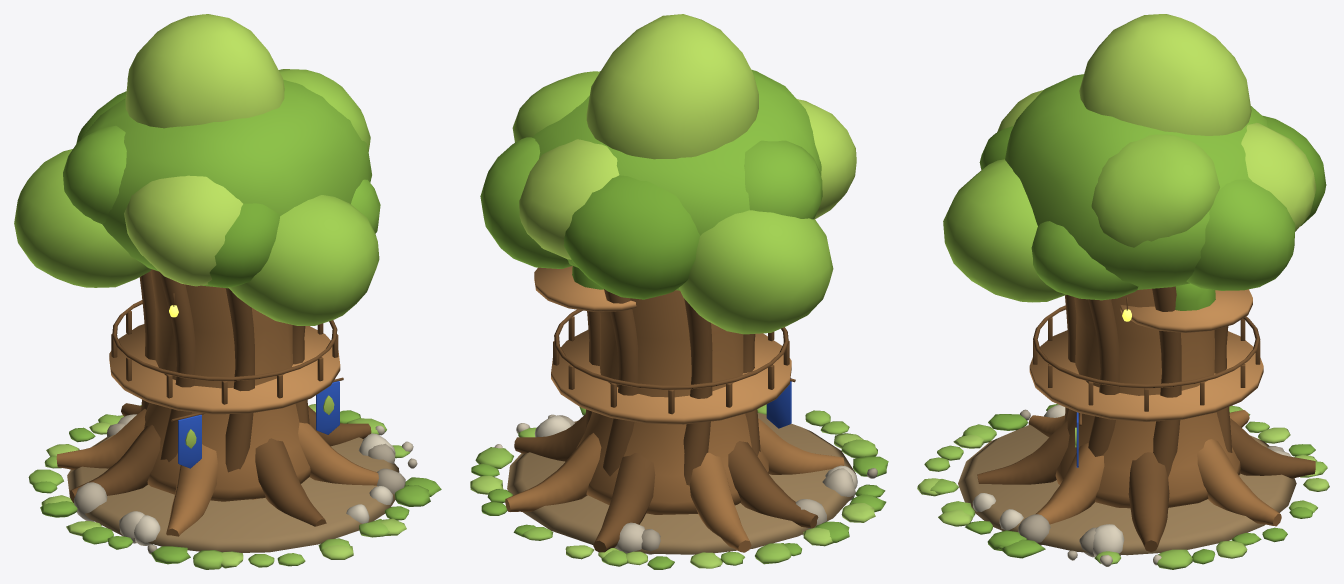
Rendered from b_heartwood_2.glb.
3 views of the same model, side by side, from view 1: azimuth 30°, elevation 25°; view 2: azimuth 150°, elevation 25°; view 3: azimuth 270°, elevation 25° (orthographic). The views are drawn at different scales.
Visible parts, largest first — view 1: root_matte#86bc40, root_matte#9ccc4c, root_matte#b6dc5c, root_matte#a0703f, root_matte#74502c, mound, root_matte#c08a52, root_matte#76aa36, root_matte#7fb243, root_matte#94c252, root_matte#a8d060, root_team (+4 smaller); view 2: root_matte#b6dc5c, root_matte#a0703f, root_matte#86bc40, root_matte#74502c, root_matte#9ccc4c, root_matte#76aa36, mound, root_matte#c08a52, root_matte#94c252, root_matte#7fb243, root_matte#a8d060, root_matte#c9bea8 (+3 smaller); view 3: root_matte#86bc40, root_matte#a0703f, root_matte#b6dc5c, root_matte#9ccc4c, root_matte#74502c, mound, root_matte#c08a52, root_matte#7fb243, root_matte#94c252, root_matte#76aa36, root_matte#a8d060, root_matte#d6ccb6 (+1 smaller).
Boxes of the visible parts, x1,y1,x2,y2 form: root_matte#86bc40: (63, 79, 380, 288); root_matte#9ccc4c: (14, 69, 379, 325); root_matte#b6dc5c: (124, 14, 334, 448); root_matte#a0703f: (56, 269, 378, 536); root_matte#74502c: (69, 271, 371, 526); mound: (67, 435, 399, 552); root_matte#c08a52: (109, 324, 340, 499); root_matte#76aa36: (76, 91, 279, 287); root_matte#7fb243: (33, 410, 441, 564); root_matte#94c252: (28, 414, 410, 569); root_matte#a8d060: (41, 404, 406, 568); root_team: (178, 381, 339, 468); root_matte#b6dc5c: (519, 14, 856, 259); root_matte#a0703f: (505, 290, 844, 552); root_matte#86bc40: (480, 69, 822, 290); root_matte#74502c: (514, 289, 818, 552); root_matte#9ccc4c: (512, 71, 833, 334); root_matte#76aa36: (563, 175, 699, 299); mound: (507, 413, 855, 554); root_matte#c08a52: (534, 266, 791, 424); root_matte#94c252: (475, 404, 877, 566); root_matte#7fb243: (471, 407, 888, 569); root_matte#a8d060: (470, 433, 875, 568); root_matte#c9bea8: (494, 423, 855, 553); root_matte#86bc40: (1005, 74, 1295, 300); root_matte#a0703f: (1028, 288, 1281, 526); root_matte#b6dc5c: (997, 14, 1316, 447); root_matte#9ccc4c: (943, 134, 1219, 302); root_matte#74502c: (977, 286, 1315, 551); mound: (958, 424, 1296, 555); root_matte#c08a52: (1029, 289, 1263, 421); root_matte#7fb243: (965, 404, 1315, 564); root_matte#94c252: (924, 405, 1327, 569); root_matte#76aa36: (979, 115, 1326, 310); root_matte#a8d060: (917, 427, 1329, 558); root_matte#d6ccb6: (972, 404, 1124, 556).
Bounding box in the file's own units: 4.19 × 5.36 × 4.26.
